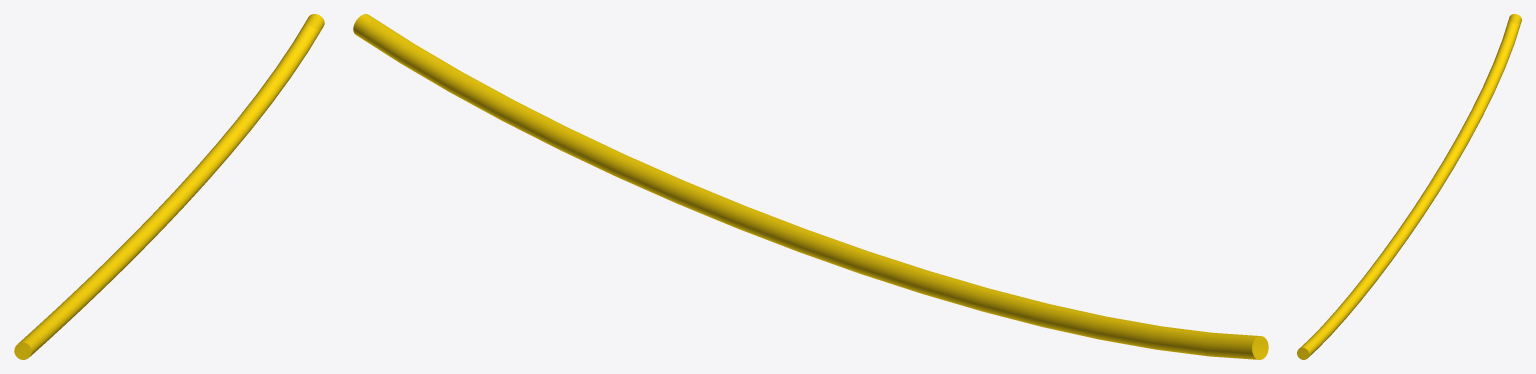
The model's file is Event_421115418_track_132.fbx.
3 views of the same model, side by side, from view 1: azimuth 90°, elevation 25°; view 2: azimuth 150°, elevation 25°; view 3: azimuth 270°, elevation 25° (orthographic). The views are drawn at different scales.
Visible parts, largest first — view 1: Model; view 2: Model; view 3: Model.
Boxes of the visible parts, x1,y1,x2,y2 form: Model: [14, 14, 324, 359]; Model: [353, 14, 1268, 359]; Model: [1297, 14, 1521, 359].
Bounding box in the file's own units: 2.12 × 0.2349 × 0.6974.
